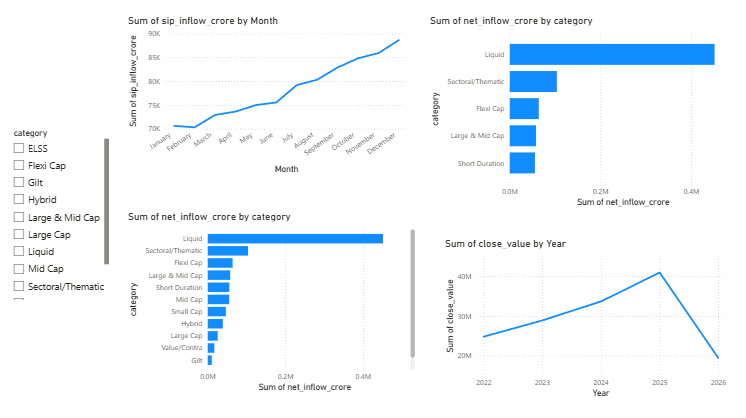

This screenshot's page, from the dashboard's own definition file:
{"tool":"powerbi","page":{"name":"SIP & Market Trends","canvas":[1280,720],"ordinal":3},"visuals":[{"type":"lineChart","fields":{"Category":["04_monthly_sip_inflows.month.Variation.Date Hierarchy.Month"],"Y":["Sum(04_monthly_sip_inflows.sip_inflow_crore)"]},"box":[216.7,30.2,478.7,273.8],"z":0},{"type":"clusteredBarChart","fields":{"Category":["05_category_inflows.category"],"Y":["Sum(05_category_inflows.net_inflow_crore)"]},"box":[216.7,359.5,492.2,310.8],"z":1},{"type":"clusteredBarChart","fields":{"Category":["05_category_inflows.category"],"Y":["Sum(05_category_inflows.net_inflow_crore)"]},"box":[724,30.2,539.2,329.2],"z":2},{"type":"lineChart","fields":{"Category":["10_benchmark_indices.date.Variation.Date Hierarchy.Year","10_benchmark_indices.date.Variation.Date Hierarchy.Quarter","10_benchmark_indices.date.Variation.Date Hierarchy.Month","10_benchmark_indices.date.Variation.Date Hierarchy.Day"],"Y":["Sum(10_benchmark_indices.close_value)"]},"box":[749.2,404.8,482.1,275.5],"z":3},{"type":"slicer","fields":{"Values":["05_category_inflows.category"]},"box":[16.8,216.7,178.1,299],"z":4}]}

Visuals, with their boxes in screenshot pixels (x1, y1, x2, y2), scaled from the page's 1280x720 canvas onto the 746x418 screenshot:
lineChart - 04_monthly_sip_inflows.month.Variation.Date Hierarchy.Month x Sum(04_monthly_sip_inflows.sip_inflow_crore): [left=126, top=18, right=405, bottom=176]
clusteredBarChart - 05_category_inflows.category x Sum(05_category_inflows.net_inflow_crore): [left=126, top=209, right=413, bottom=389]
clusteredBarChart - 05_category_inflows.category x Sum(05_category_inflows.net_inflow_crore): [left=422, top=18, right=736, bottom=209]
lineChart - 10_benchmark_indices.date.Variation.Date Hierarchy.Year x 10_benchmark_indices.date.Variation.Date Hierarchy.Quarter: [left=437, top=235, right=718, bottom=395]
slicer - 05_category_inflows.category: [left=10, top=126, right=114, bottom=299]
